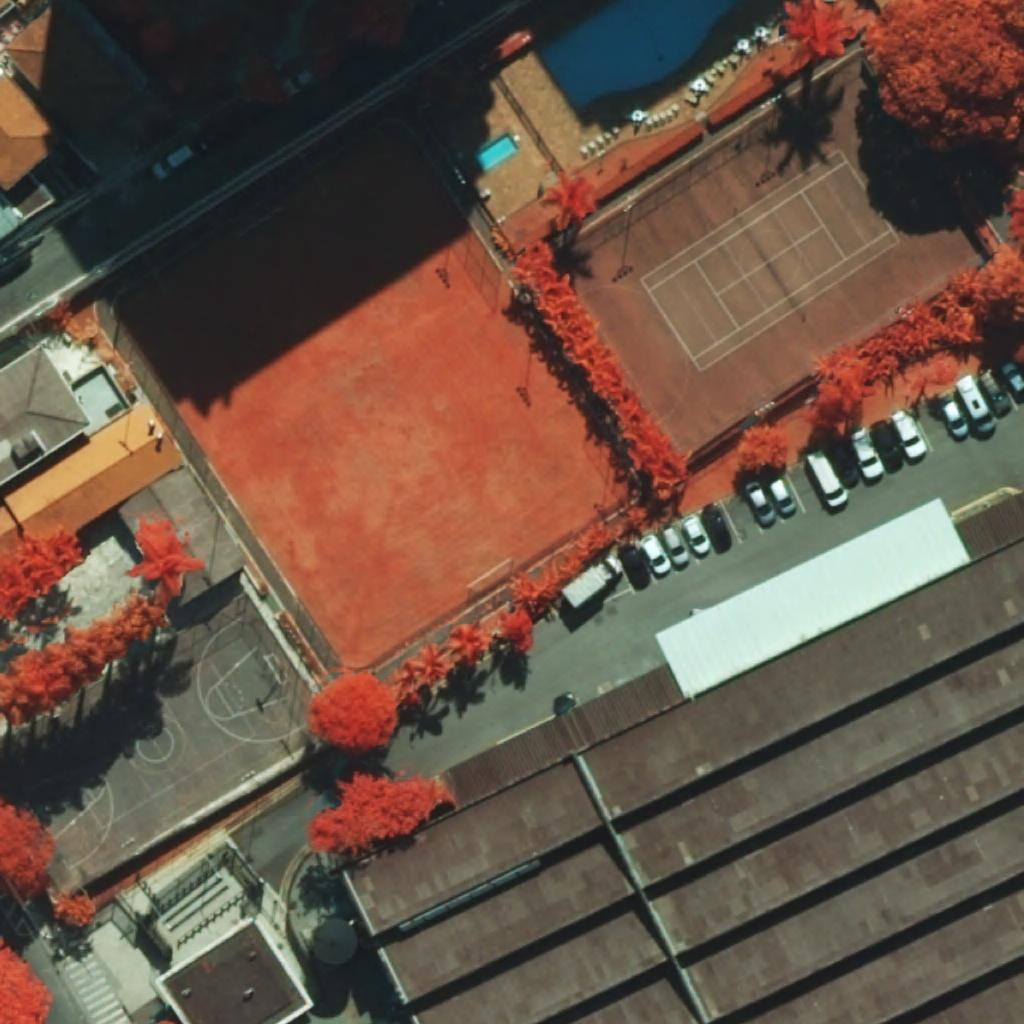pool: (540, 0, 739, 109), (474, 134, 518, 172)
